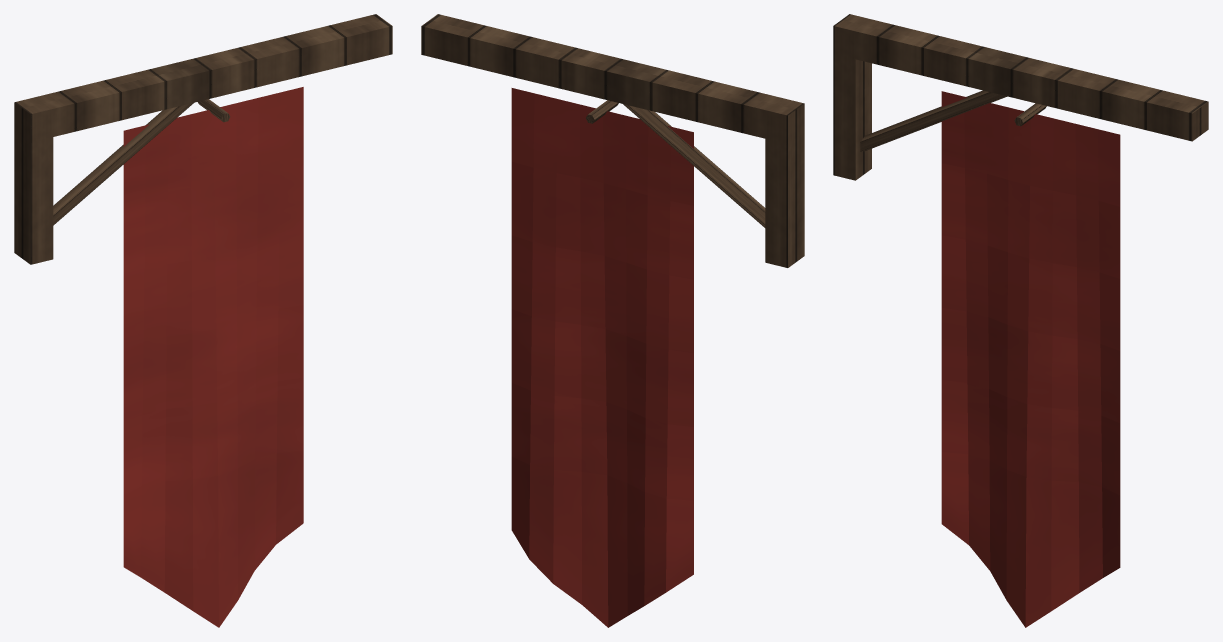
File: Banner_1.gltf
3 views of the same model, side by side, from view 1: azimuth 30°, elevation 25°; view 2: azimuth 150°, elevation 25°; view 3: azimuth 330°, elevation 25° (orthographic). The views are drawn at different scales.
Visible parts, largest first — view 1: Banner_1; view 2: Banner_1; view 3: Banner_1.
Part boxes in pixels (left/top/right/bottom): Banner_1: left=14, top=14, right=392, bottom=627; Banner_1: left=421, top=14, right=804, bottom=627; Banner_1: left=833, top=14, right=1208, bottom=627.
Size of the model in its own units: 1.61 by 2.39 by 0.19.
Materials: 2 (2 with a texture image).
